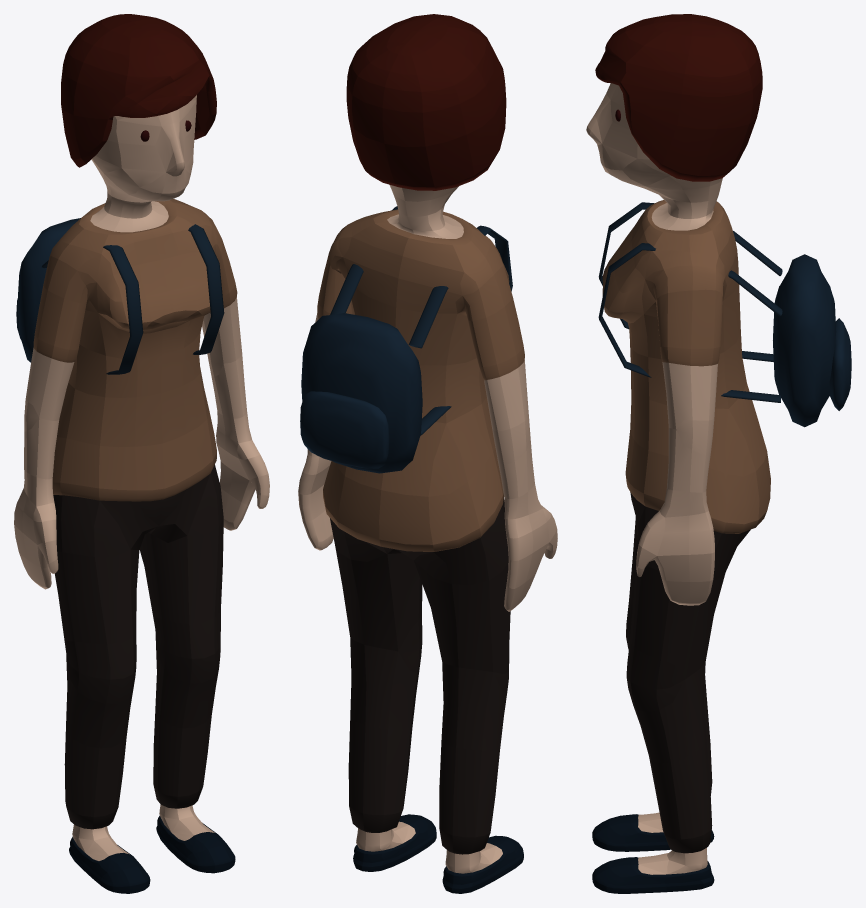
Rendered from pessoa_crianca.glb.
3 renders of one model, left to right at view 1: azimuth 30°, elevation 25°; view 2: azimuth 150°, elevation 25°; view 3: azimuth 270°, elevation 25°, orthographic. The views are drawn at different scales.
Parts seen in each view (by area): view 1: pessoa_crianca; view 2: pessoa_crianca; view 3: pessoa_crianca.
Boxes of the visible parts, x1=… form: pessoa_crianca: x1=14, y1=14, x2=269, y2=893; pessoa_crianca: x1=298, y1=14, x2=557, y2=893; pessoa_crianca: x1=586, y1=14, x2=851, y2=893.
Bounding box in the file's own units: 0.3473 × 1.22 × 0.3484.
1 material, 1 textured.
